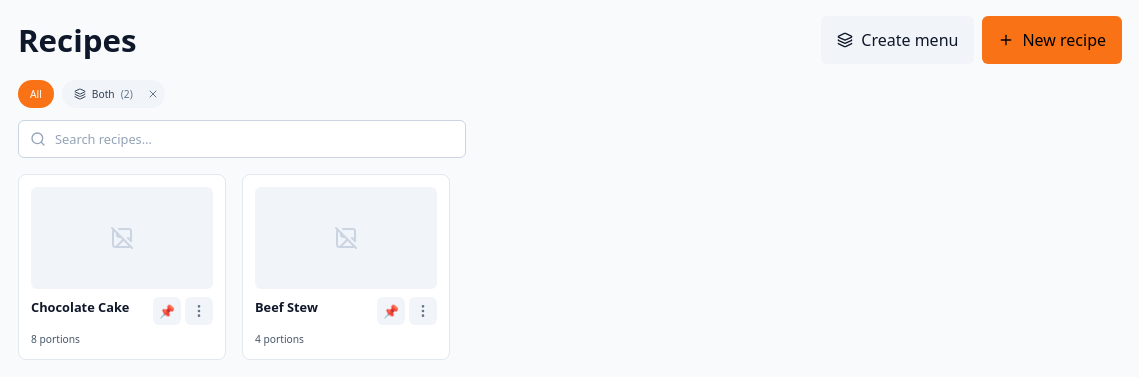
Test: RecipesLibrary › menu filter and search combine — search narrows within the active menu
Expected: the link "Beef Stew" is shown, [255, 298, 318, 316]
Step 1. Click the button with test id "recipes-filter-chip-m_seed_3" → (101, 94), box [62, 80, 141, 108]
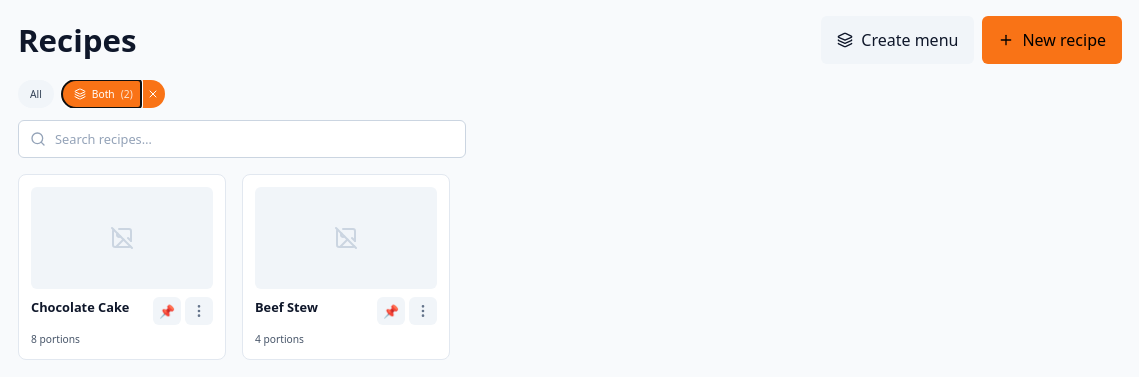
Expected: the link "Beef Stew" is shown, [255, 298, 318, 316]
Expected: the link "Chocolate Cake" is shown, [31, 298, 129, 316]
Step 2. Type "cake" into the search field with test id "recipes-search-input" → (242, 139), box [18, 120, 466, 158]
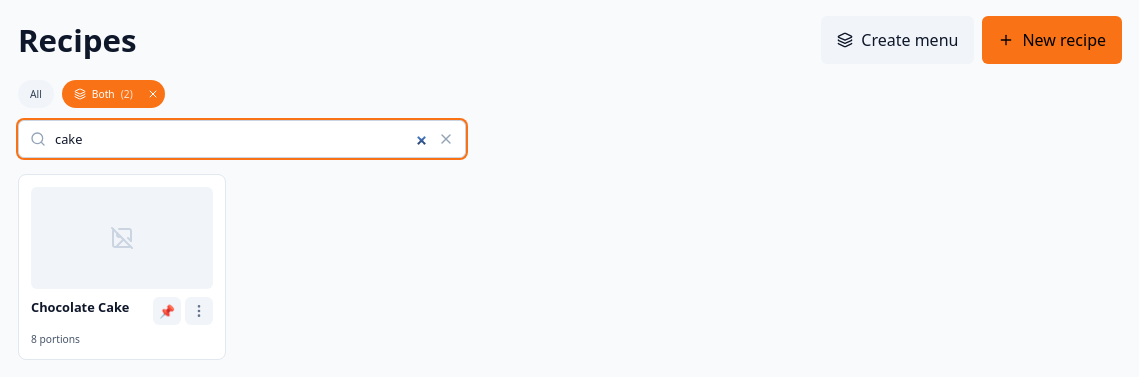
Expected: the link "Chocolate Cake" is shown, [31, 298, 129, 316]
Now the link "Beef Stew" is gone
